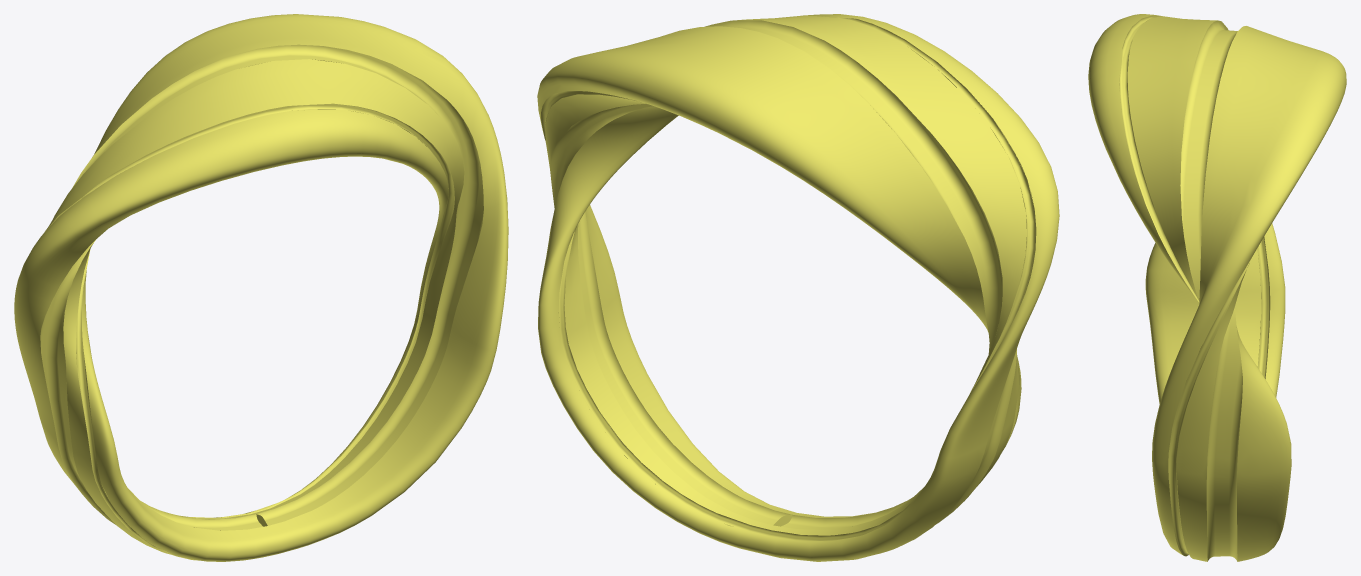
3 views of the same model, side by side, from view 1: azimuth 30°, elevation 25°; view 2: azimuth 150°, elevation 25°; view 3: azimuth 270°, elevation 25° (orthographic). The views are drawn at different scales.
Visible parts, largest first — view 1: final v0 (1); view 2: final v0 (1); view 3: final v0 (1).
Boxes of the visible parts, bbox=[...] form: final v0 (1): bbox=[14, 14, 508, 561]; final v0 (1): bbox=[537, 14, 1059, 561]; final v0 (1): bbox=[1088, 14, 1346, 561].
Bounding box in the file's own units: 0.0268 × 0.0263 × 0.0125.
